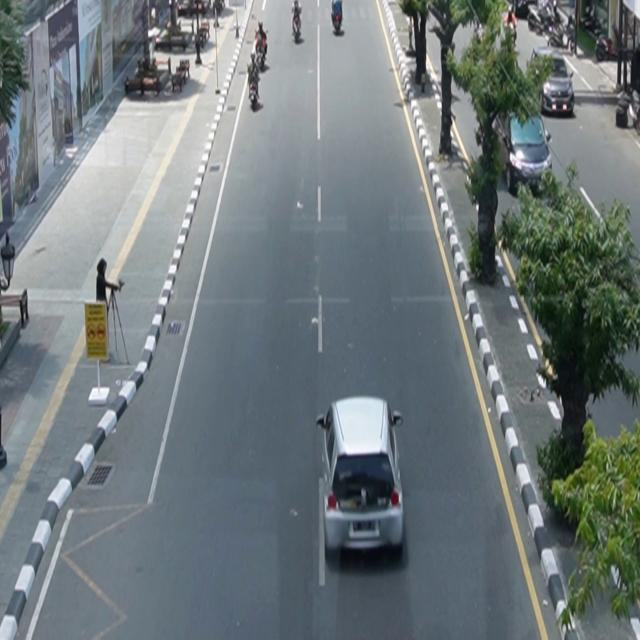car: (317, 396, 406, 557), (493, 108, 554, 198), (528, 49, 576, 117)
